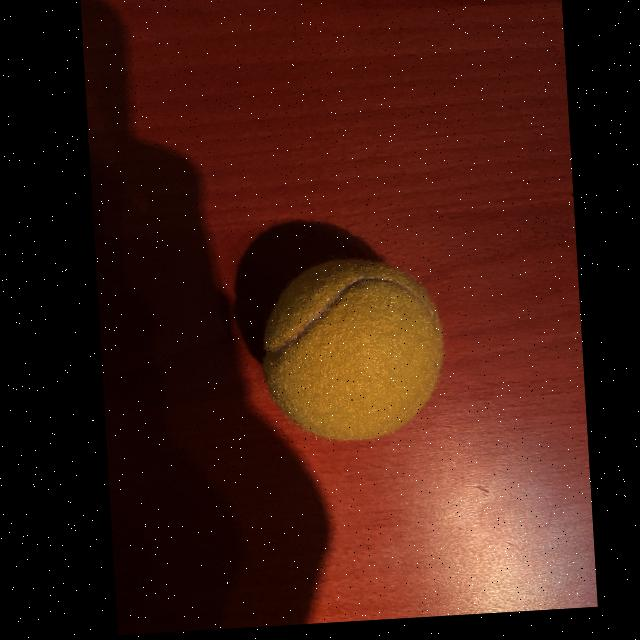Tennisball: (263, 258, 443, 441)
